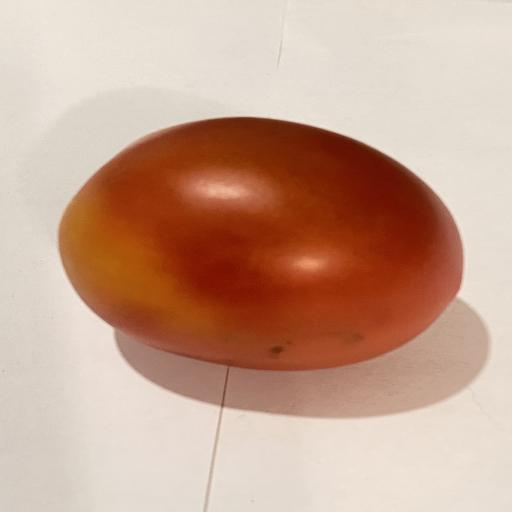ripe: (59, 117, 463, 370)
